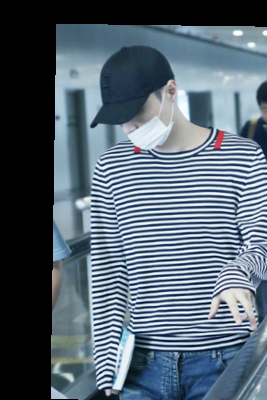mask_weared_incorrect: (87, 41, 190, 154)
